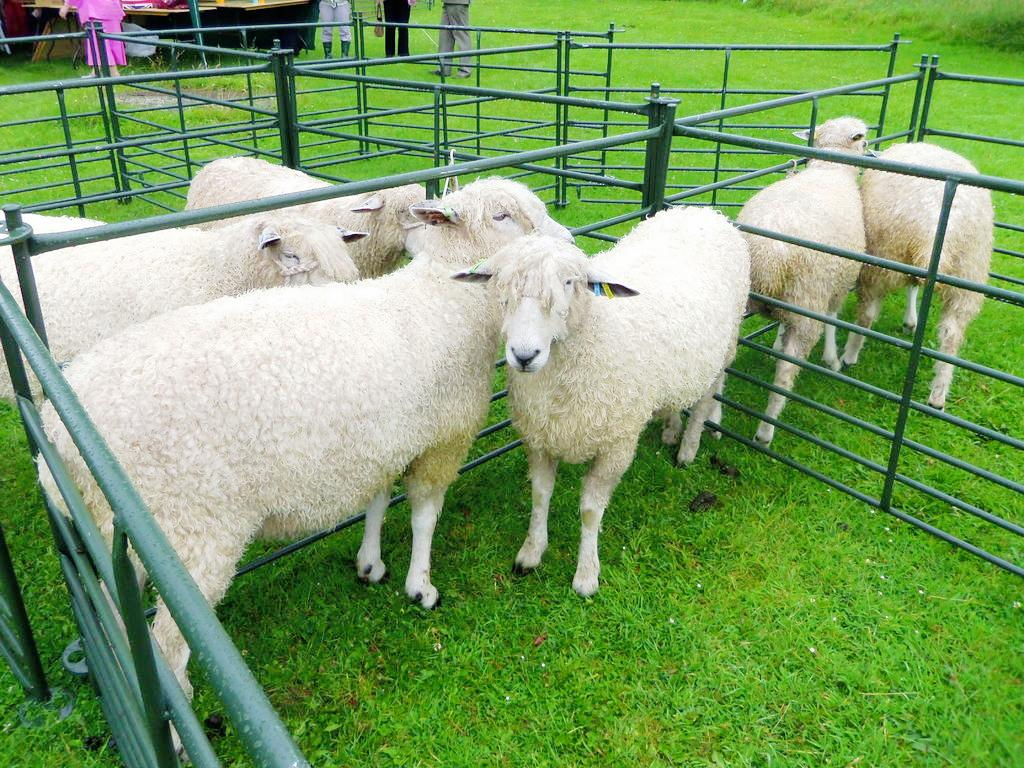Sheep: (34, 174, 583, 751), (480, 202, 762, 603), (0, 203, 374, 414), (729, 117, 877, 449), (170, 148, 463, 300), (859, 140, 1000, 418)
